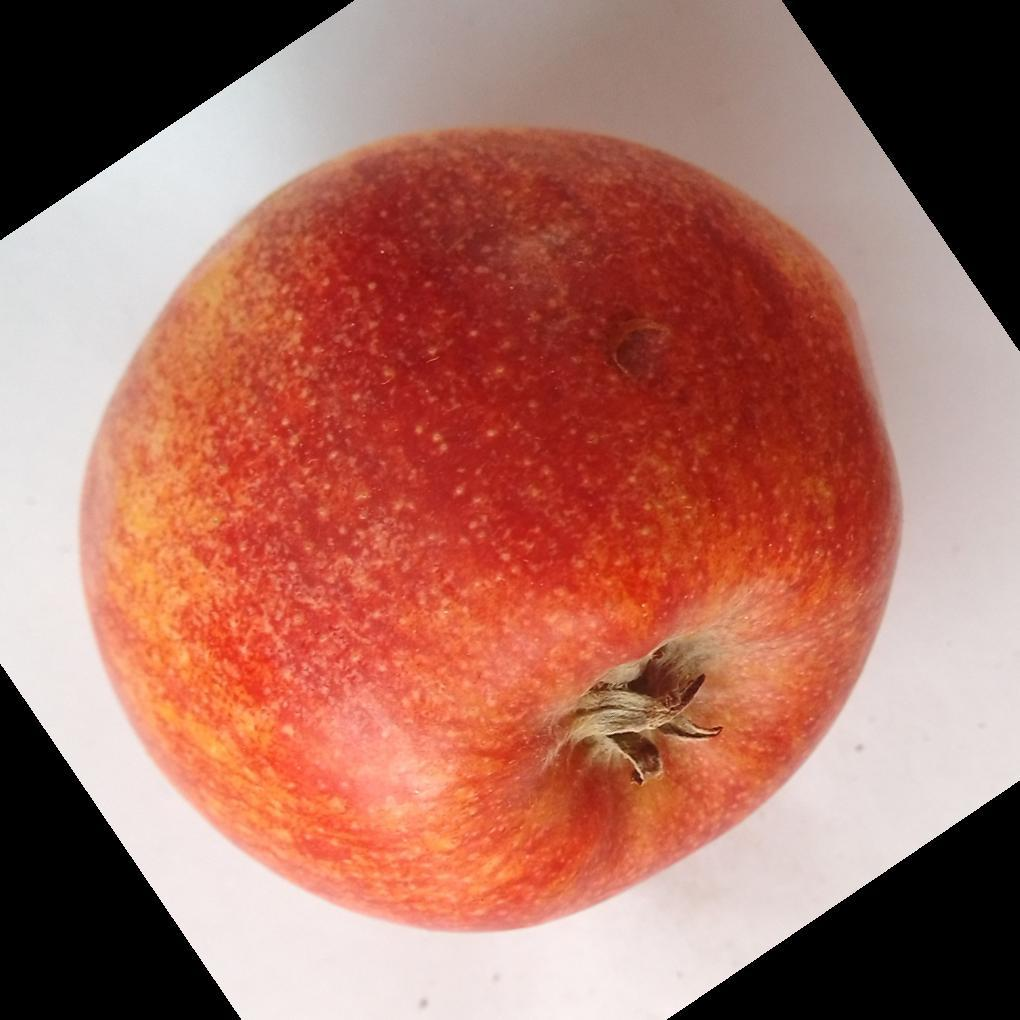FreshGuava: (75, 126, 903, 938)
